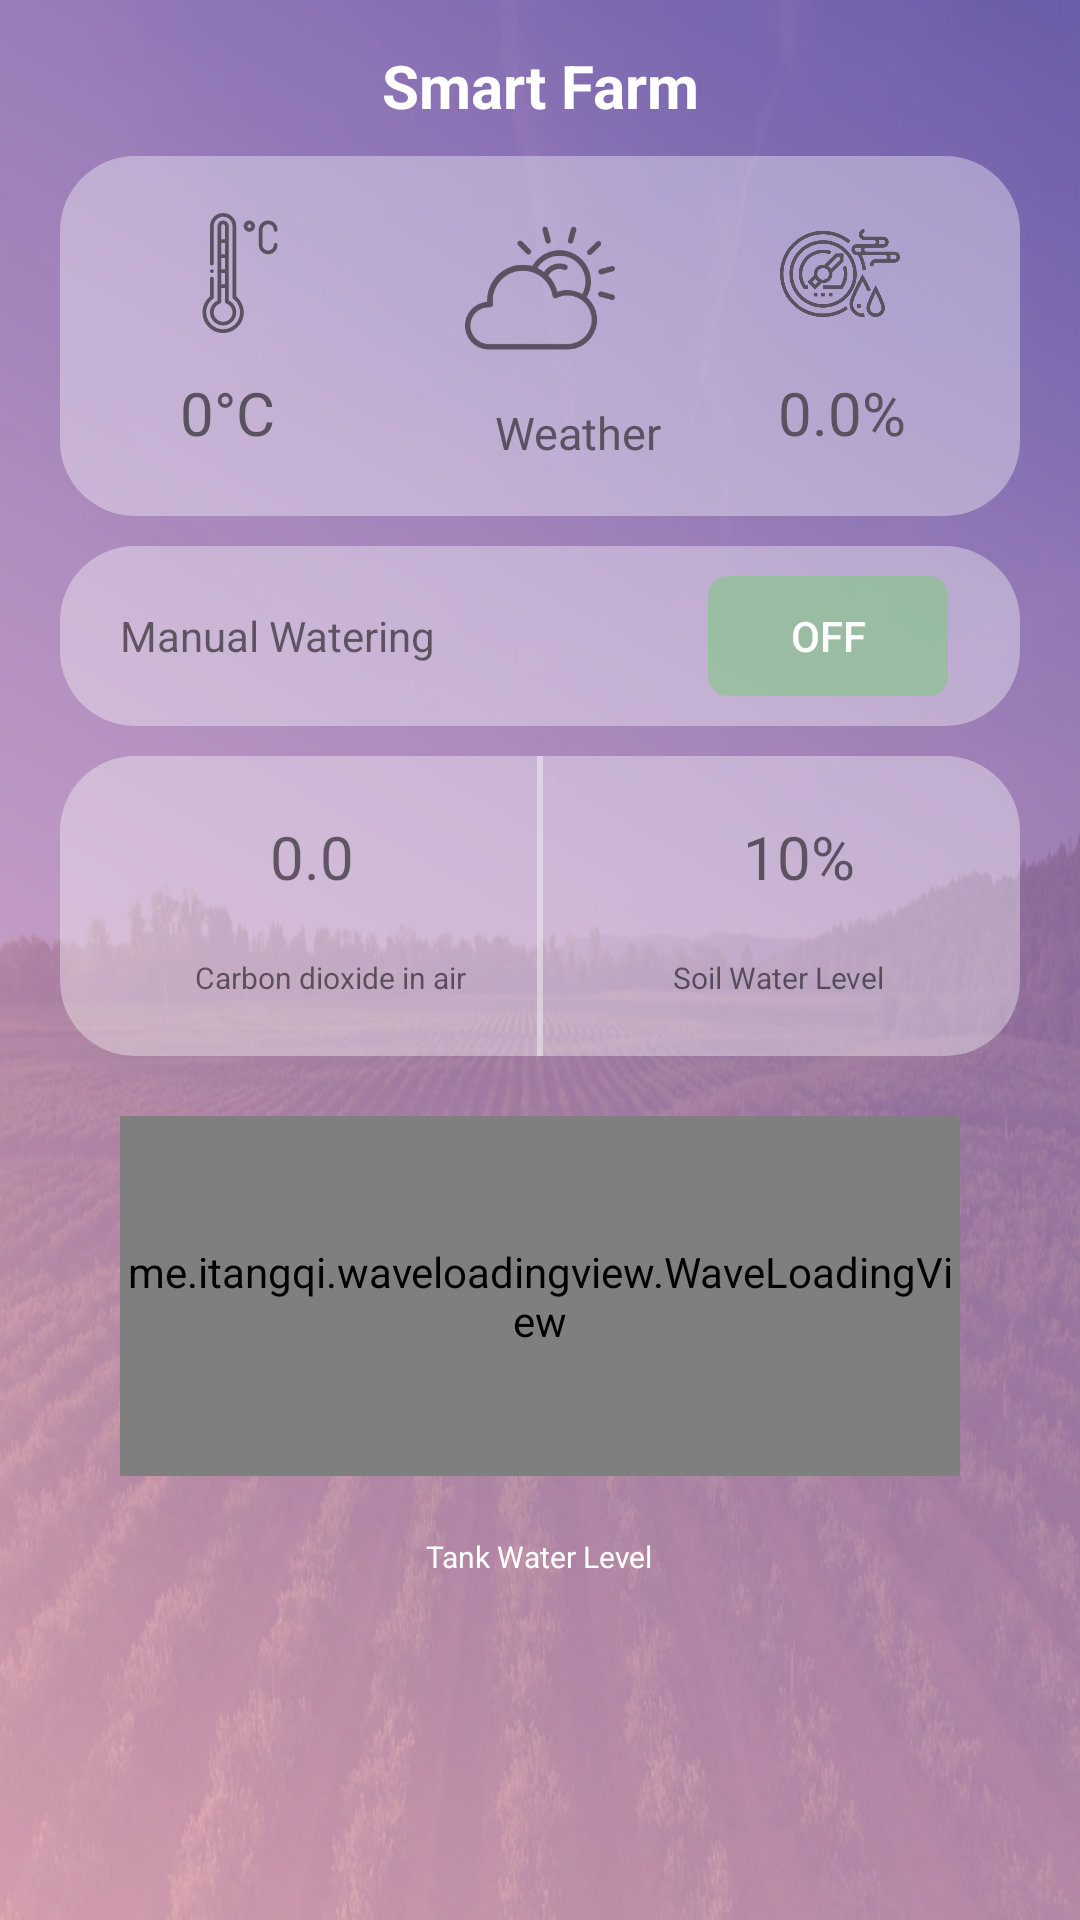

Icons on this 1080 × 1920 Android screen, each with its box as (x1, y1, x2, y2):
thermometer: (202, 213, 278, 333)
